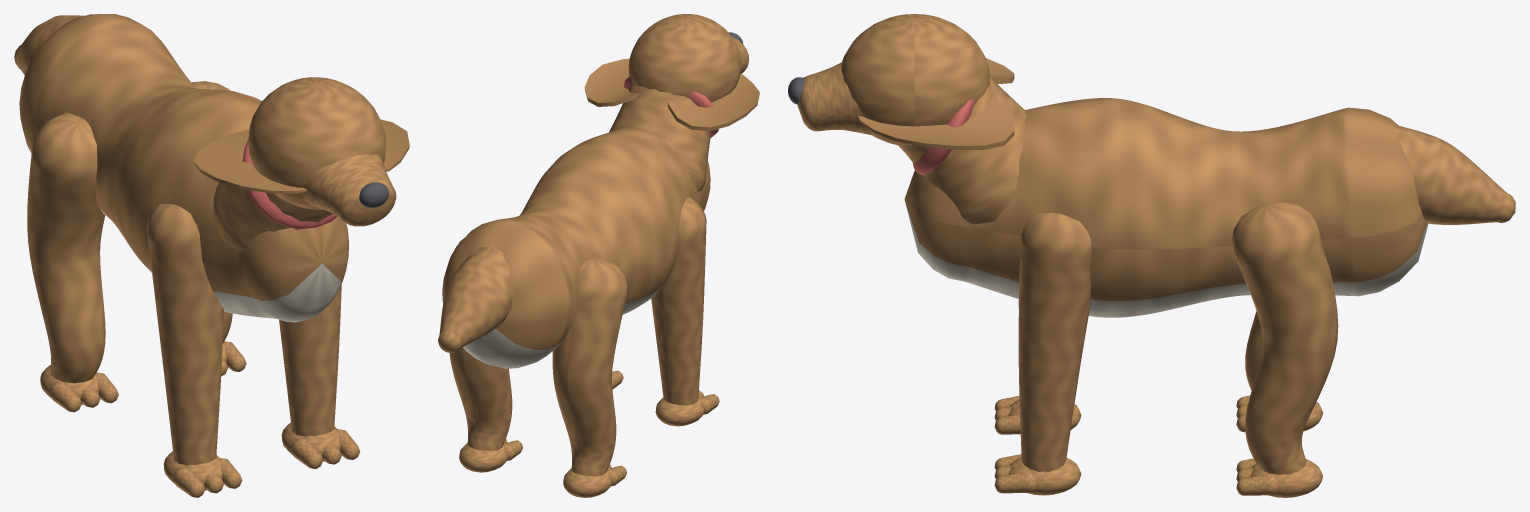
Rendered from pets-and-companions-hd-golden-retriever-puppy-ab28cdc3.glb.
3 renders of one model, left to right at view 1: azimuth 30°, elevation 25°; view 2: azimuth 150°, elevation 25°; view 3: azimuth 270°, elevation 25°, orthographic. The views are drawn at different scales.
Visible parts, largest first — view 1: golden-retriever-puppy; view 2: golden-retriever-puppy; view 3: golden-retriever-puppy.
Part boxes in pixels (x1,y1,x2,y2): golden-retriever-puppy: (14,14,409,497); golden-retriever-puppy: (438,14,759,497); golden-retriever-puppy: (788,14,1515,497).
Size of the model in its own units: 0.1735 by 0.3536 by 0.5283.
4 materials, 2 textured.
